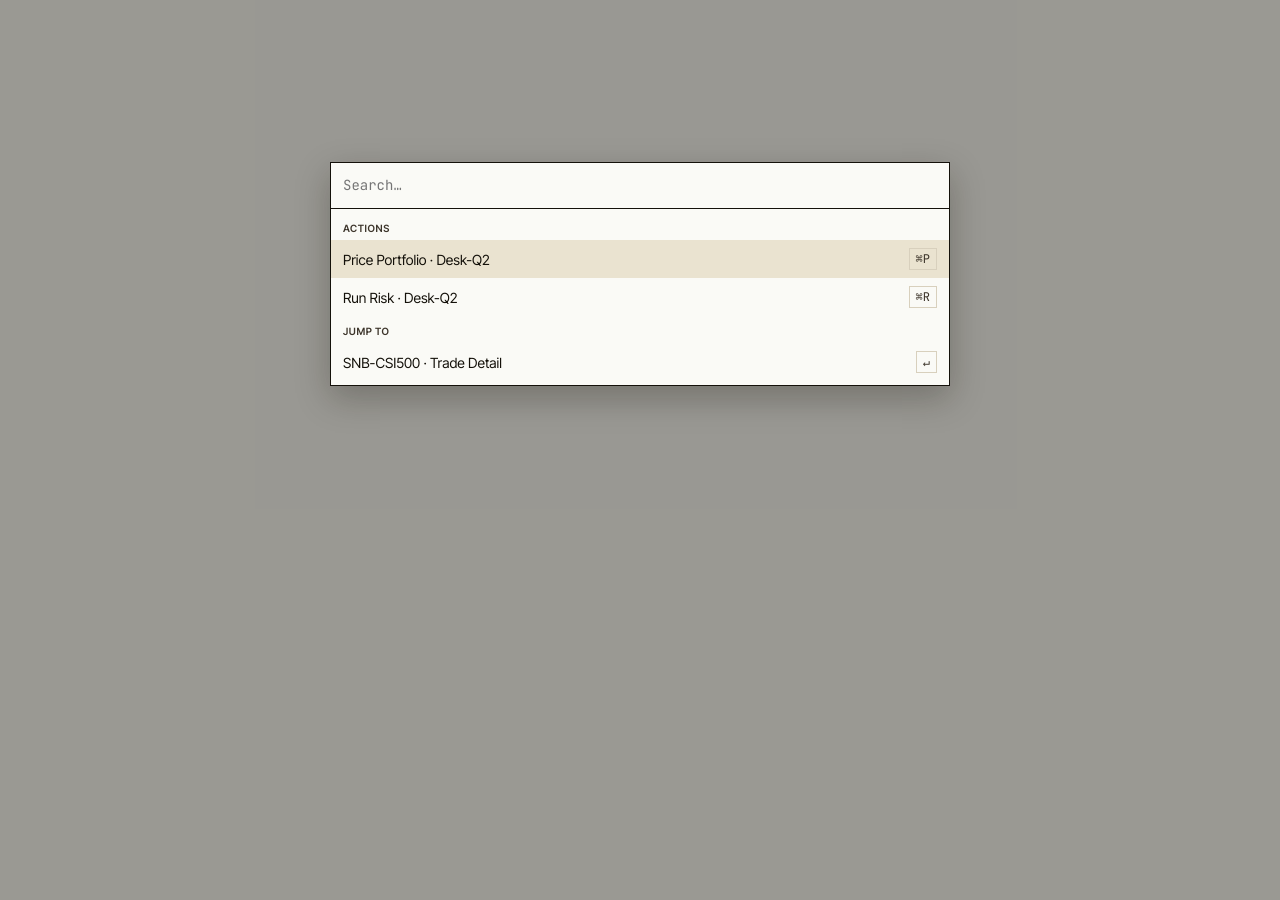
Test: CommandPalette › filters items by query
The image size is (1280, 900).
Type "risk" into the field with placeholder "Search…" at (640, 186), box top-left (331, 163), bottom-right (949, 209)
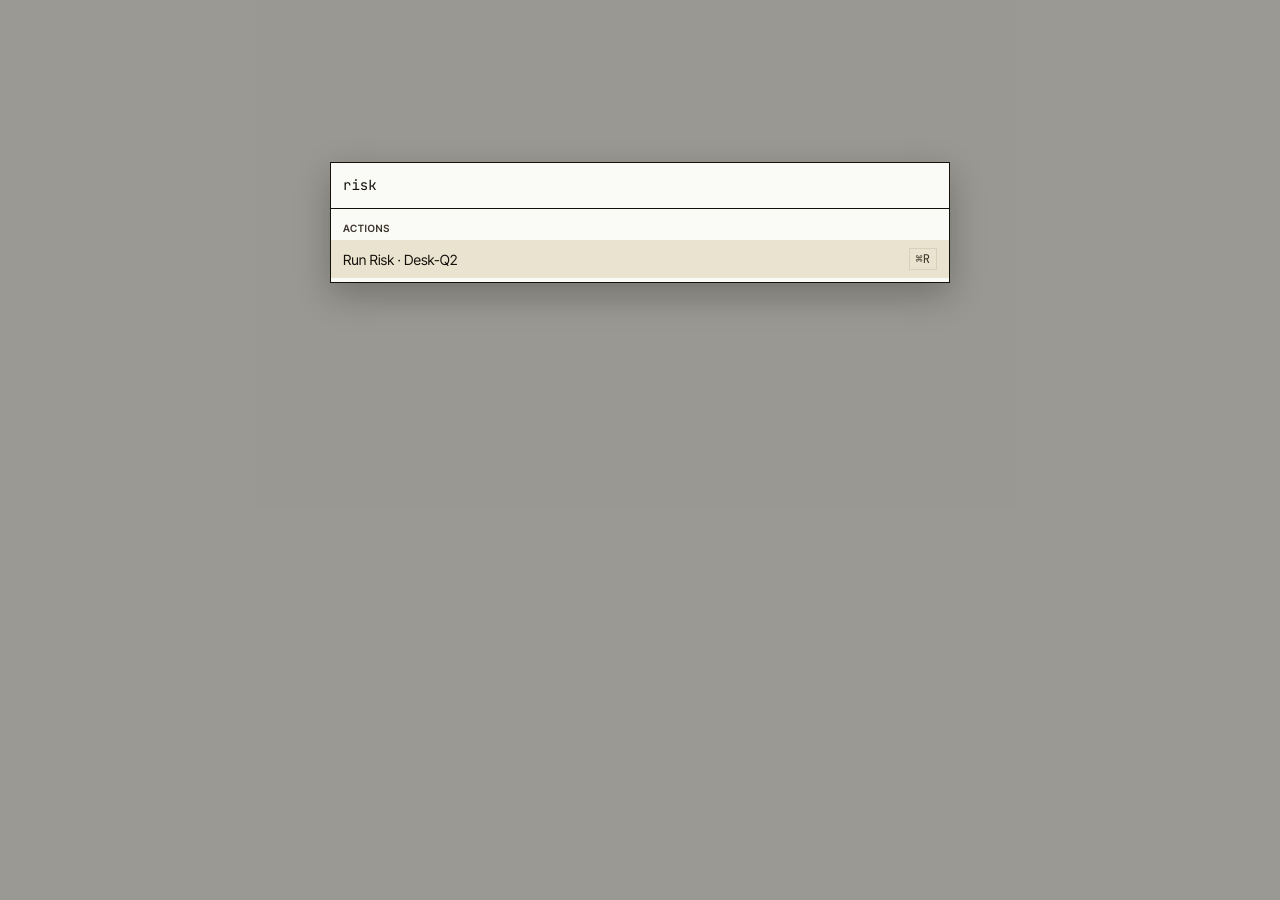
Check: the text "Run Risk · Desk-Q2" is shown, box top-left (343, 248), bottom-right (458, 270)
Check: the button "SNB-CSI500 · Trade Detail" is gone
